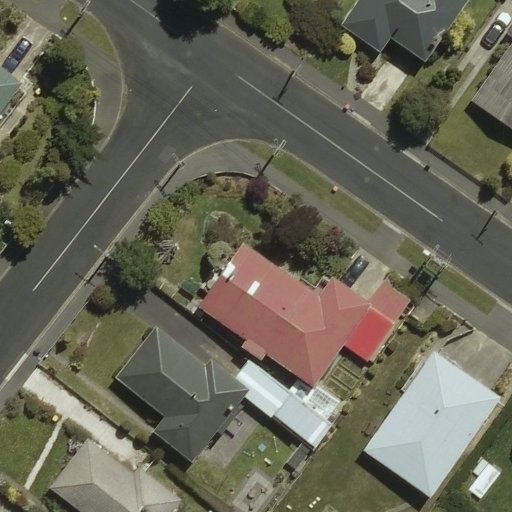DT: (415, 233, 461, 284), (267, 132, 292, 161)
